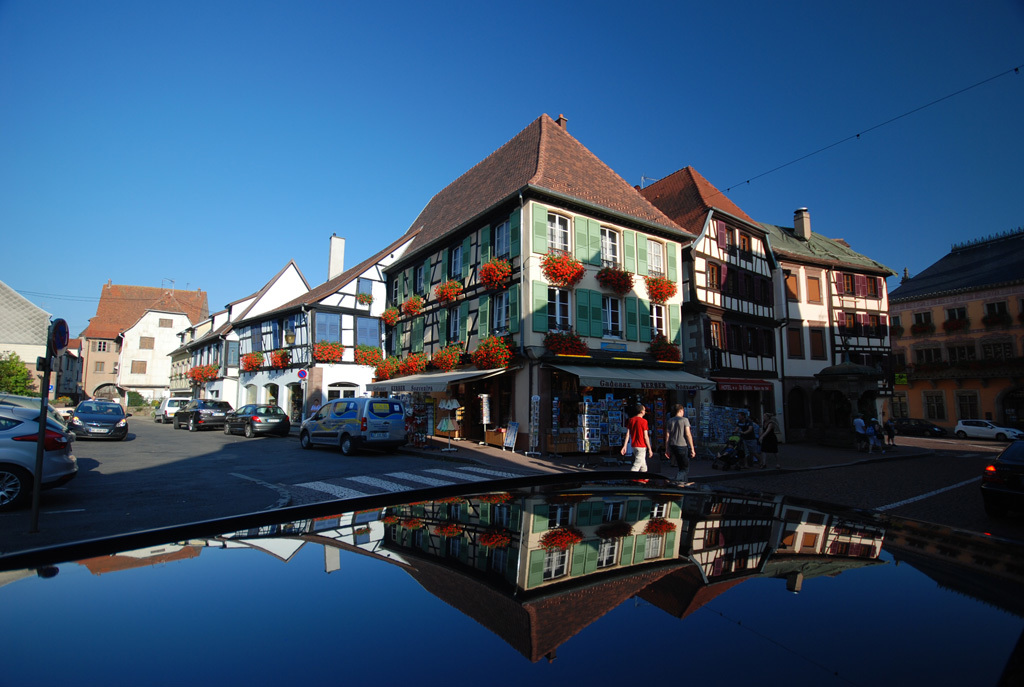Car: (0, 400, 69, 506), (296, 397, 408, 453), (67, 400, 129, 438), (227, 405, 289, 437), (174, 402, 232, 433), (156, 397, 190, 423)
